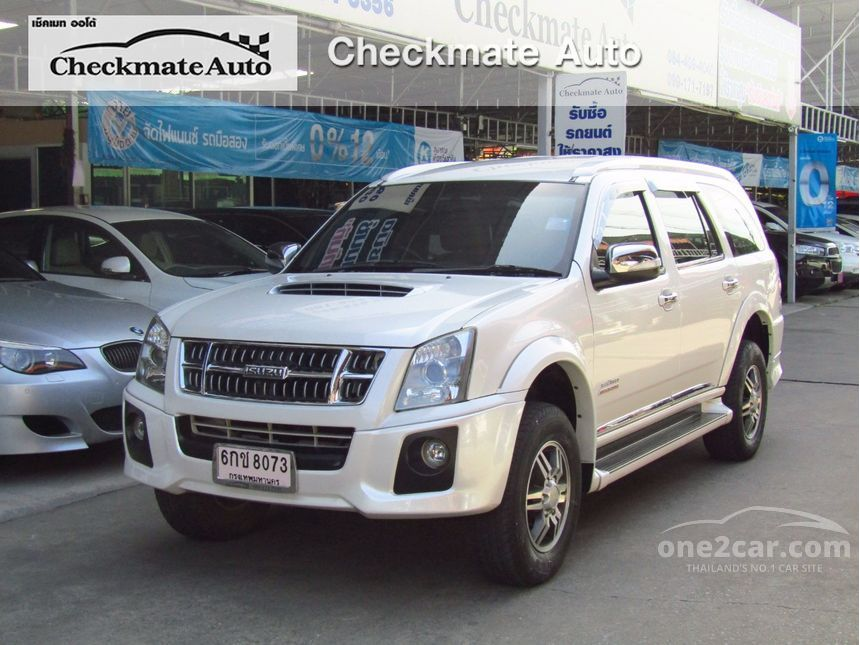pickup: (120, 154, 784, 586)
